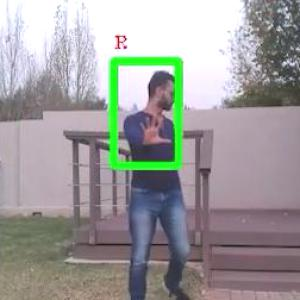follow_hand: (134, 110, 173, 148)
